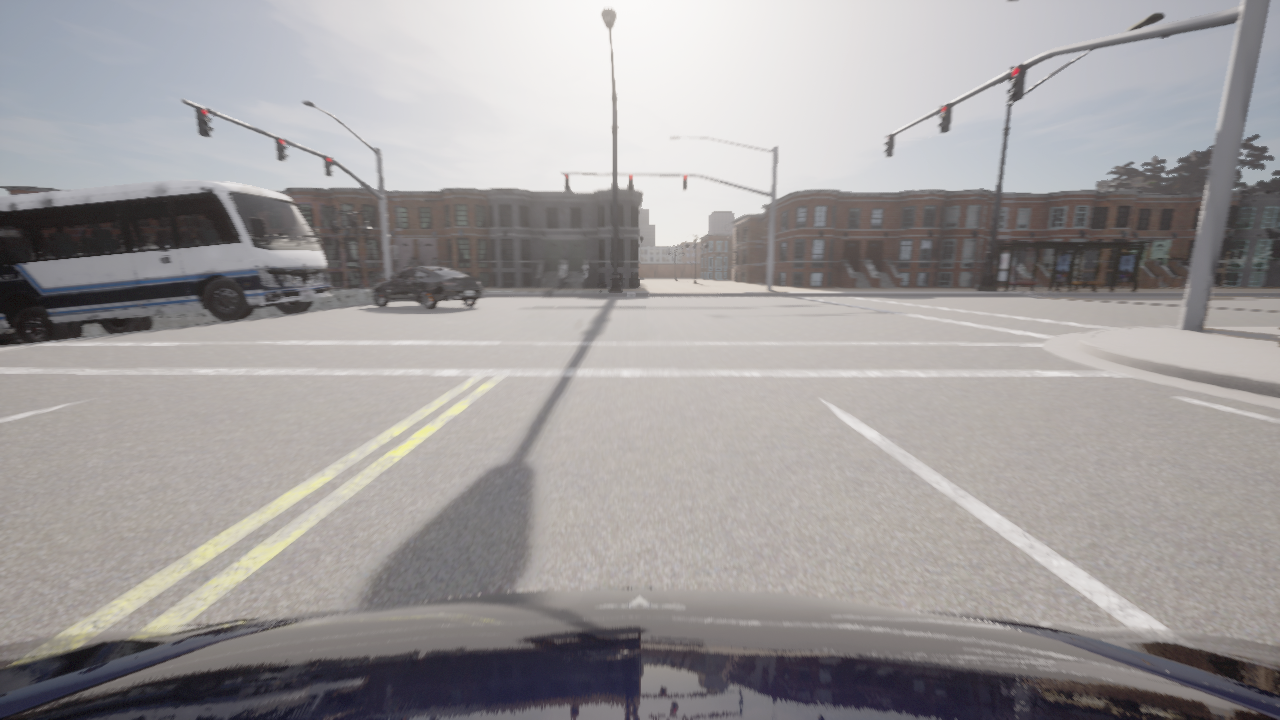cyclist: (0, 588, 1279, 719), (0, 180, 331, 343), (372, 266, 482, 309), (0, 328, 87, 345)
